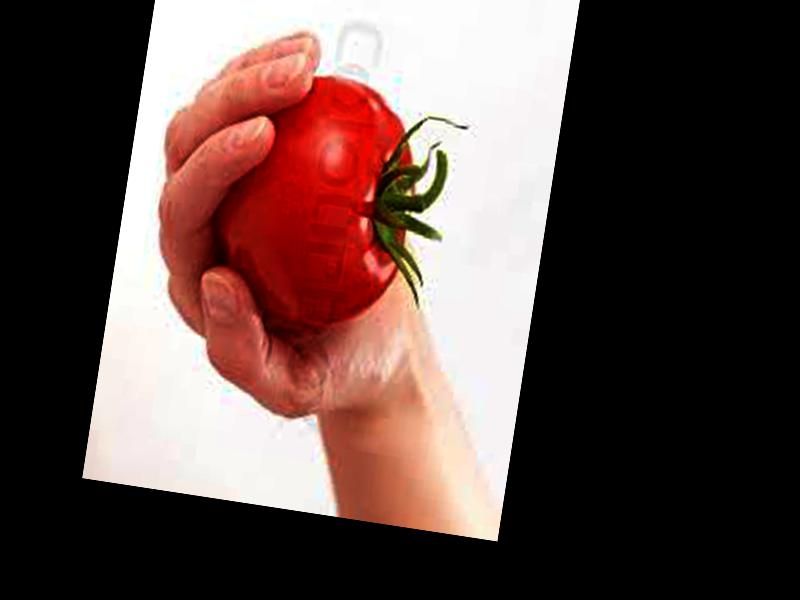Tomato: (203, 62, 430, 334)
